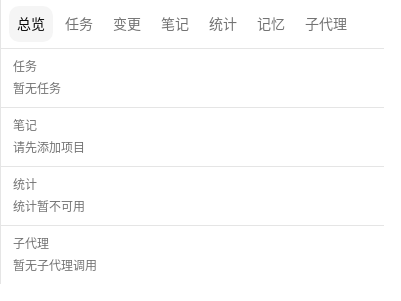
Test case: 子代理页签（docs08-r6 任务 17） › 右栏页签接入：tab-agents 存在且点击切换渲染子代理面板
What coordinates should you click on to do the following:
click the tab with test id "right-rail-tab-agents"
I would click on:
 (326, 24)
Its box is [297,6,355,42].
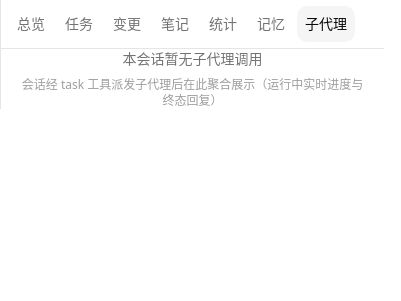
expect the element with test id "subagent-empty" is shown: met, box [1,49,384,109]
